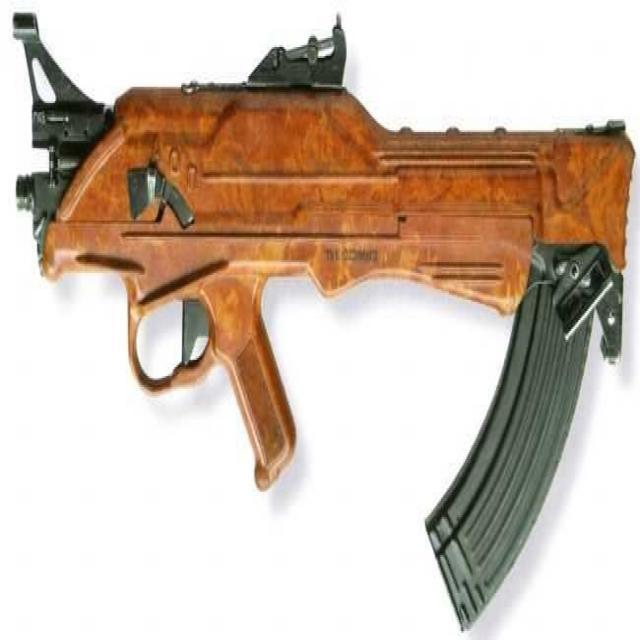weapon: (11, 3, 636, 610)
